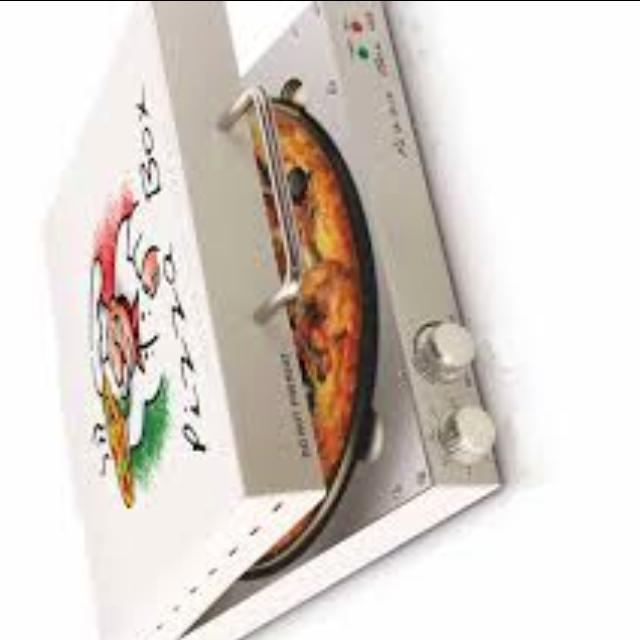cardboard paper: (48, 0, 492, 640)
